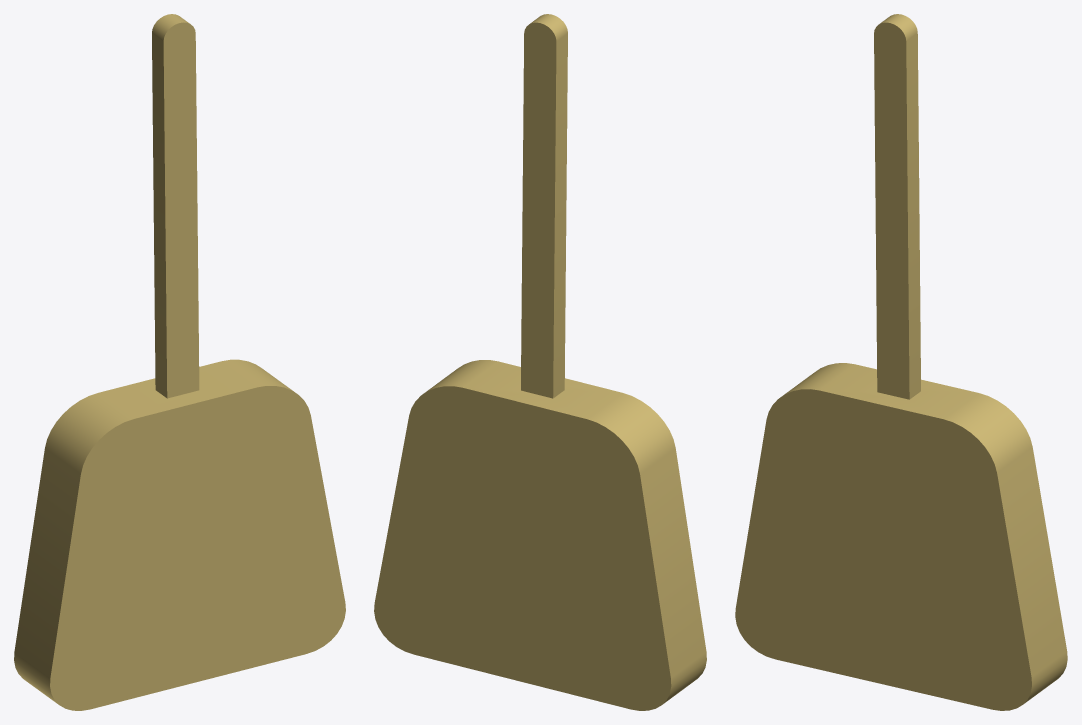
Rendered from SingleSting.fbx.
3 renders of one model, left to right at view 1: azimuth 30°, elevation 25°; view 2: azimuth 150°, elevation 25°; view 3: azimuth 330°, elevation 25°, orthographic.
Parts seen in each view (by area): view 1: KimLe; view 2: KimLe; view 3: KimLe.
Boxes of the visible parts, <box> form: KimLe: <box>14,14,345,710</box>; KimLe: <box>374,14,706,710</box>; KimLe: <box>735,14,1067,710</box>.
Size of the model in its own units: 0.3384 by 0.7113 by 0.0718.
1 material, 1 textured.
